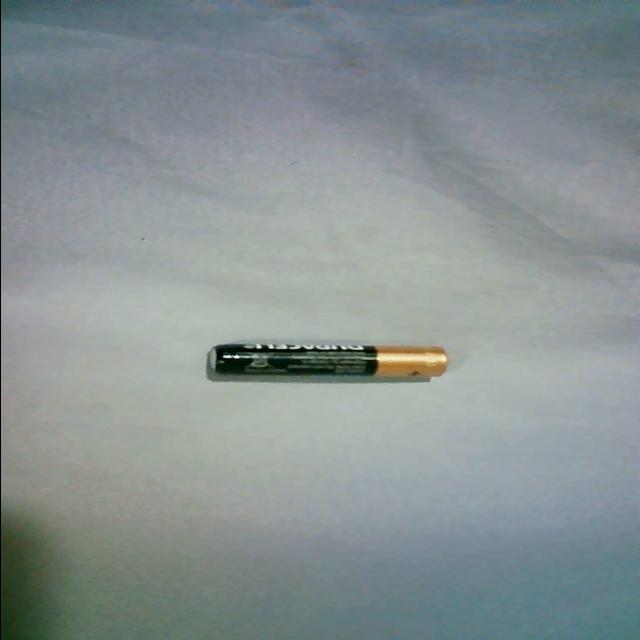AAA: (202, 338, 452, 386)
